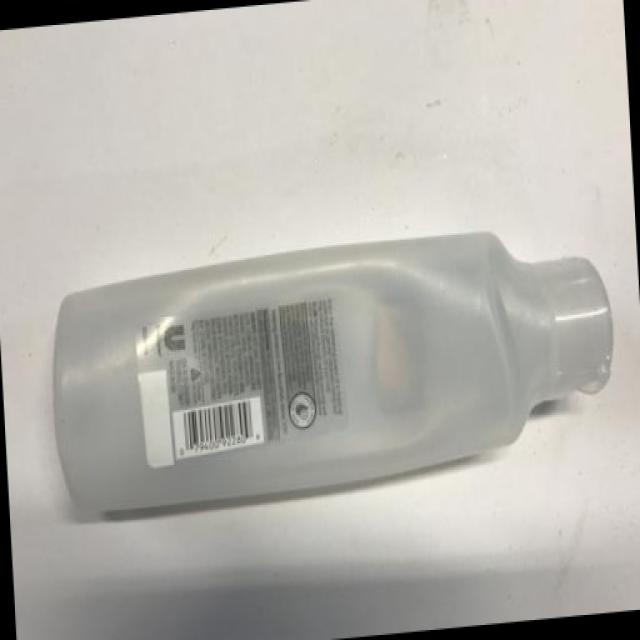plastico: (53, 208, 629, 576)
